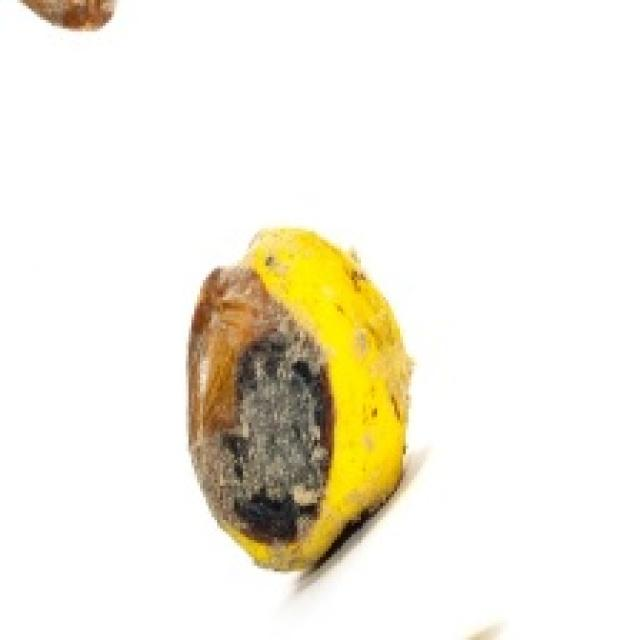rotten_apple: (185, 230, 403, 567)
